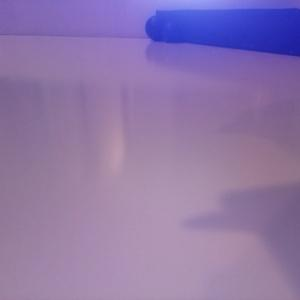dead_ball: (144, 14, 168, 41), (161, 20, 180, 43)
